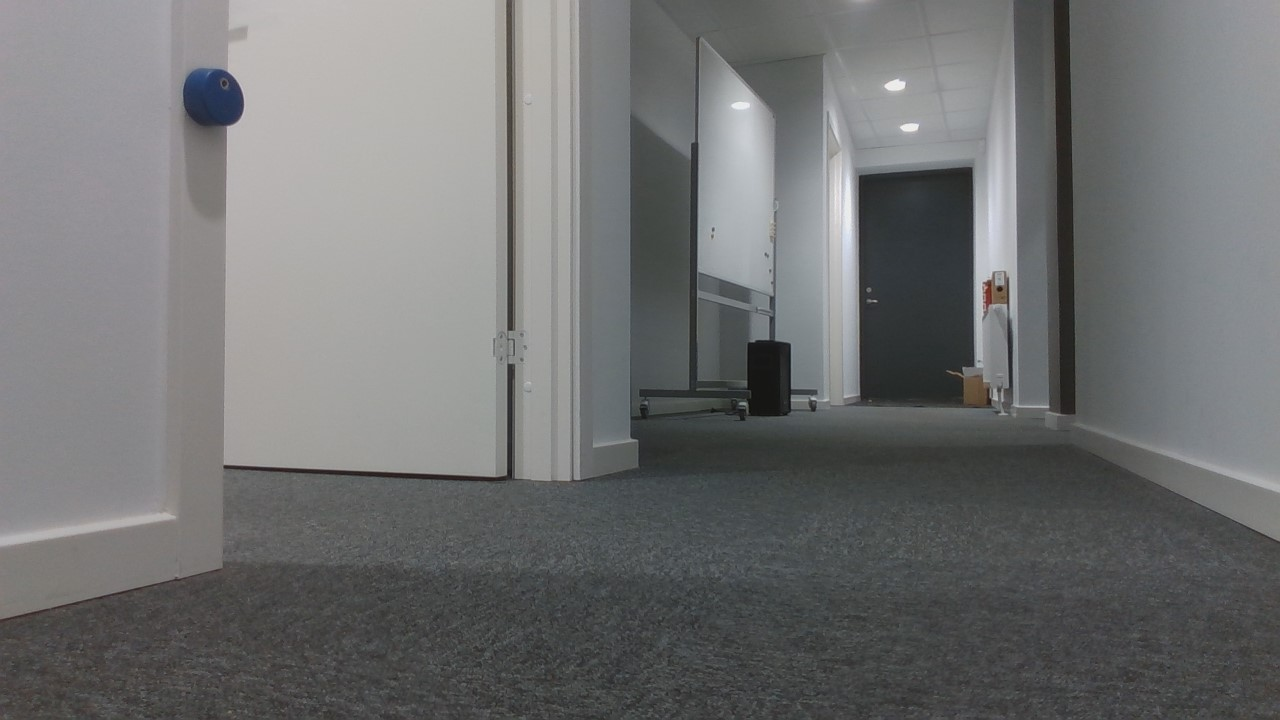alfa: (183, 68, 245, 126)
